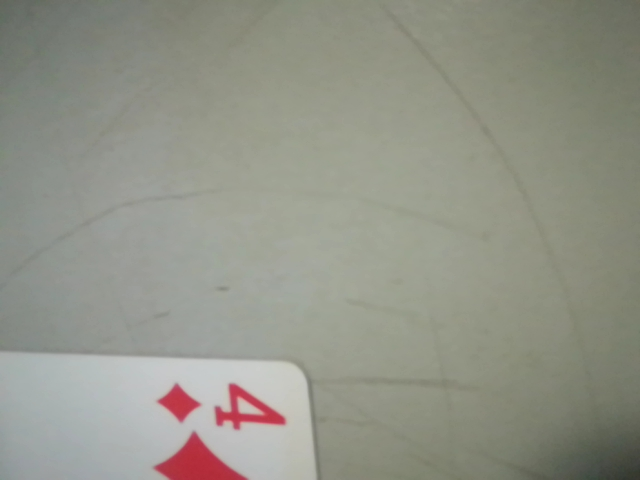fk 4: (149, 376, 300, 442)
